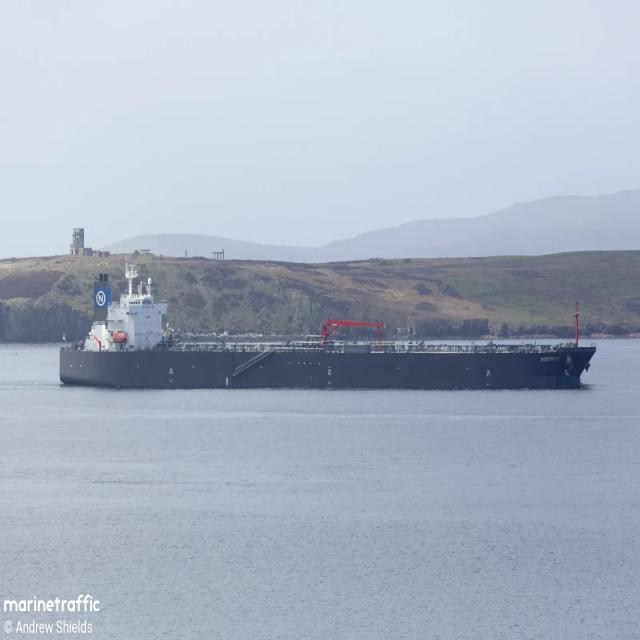Tanker: (60, 259, 596, 389)
